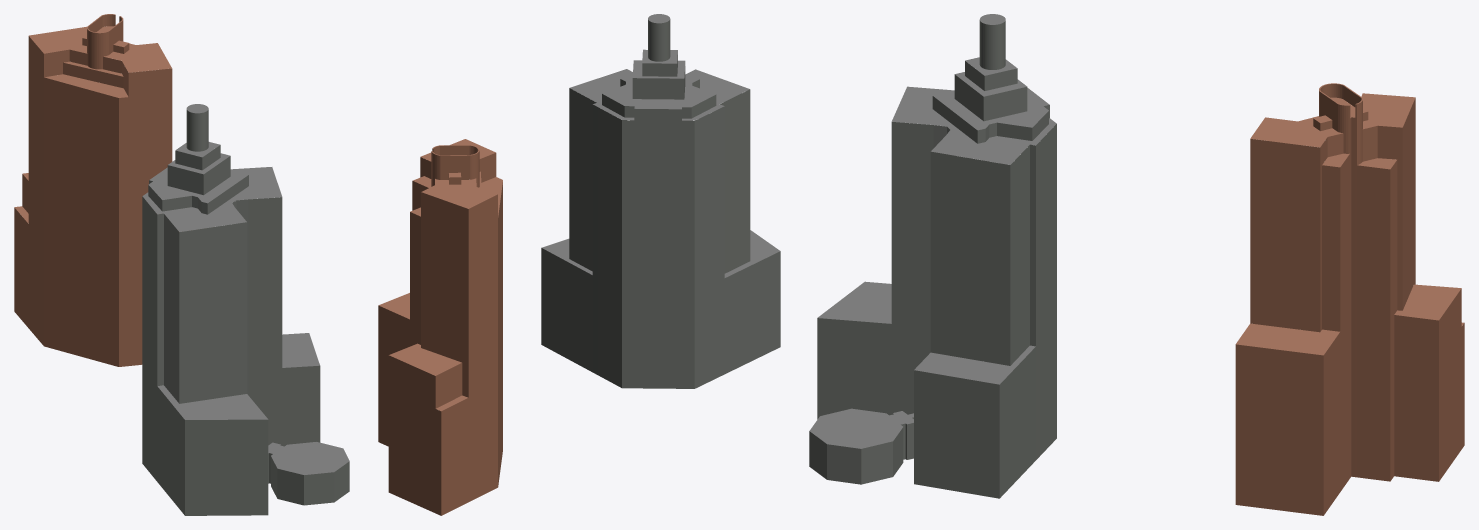
The model's file is tile--10_12.glb.
The picture shows the model from 3 angles, left to right: view 1: azimuth 30°, elevation 25°; view 2: azimuth 150°, elevation 25°; view 3: azimuth 270°, elevation 25°; orthographic projection. The views are drawn at different scales.
Parts seen in each view (by area): view 1: wall, roof; view 2: wall, roof; view 3: wall, roof.
Boxes of the visible parts, x1,y1,x2,y2 form: wall: (14,14,349,515); roof: (14,14,349,474); wall: (378,19,780,515); roof: (379,14,780,411); wall: (809,20,1464,515); roof: (809,14,1463,448).
Size of the model in its own units: 58.12 by 95.12 by 136.
